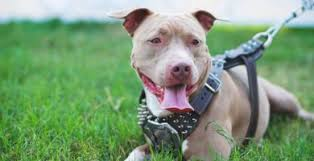Perro Pitbull: (103, 4, 294, 149)
